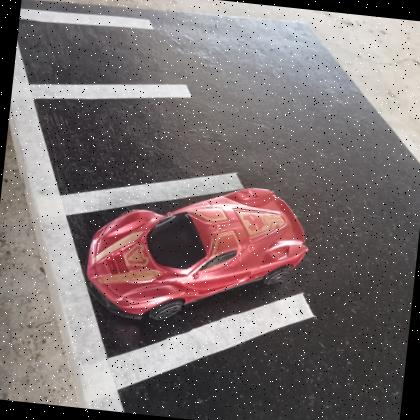Car: (83, 188, 308, 331)
